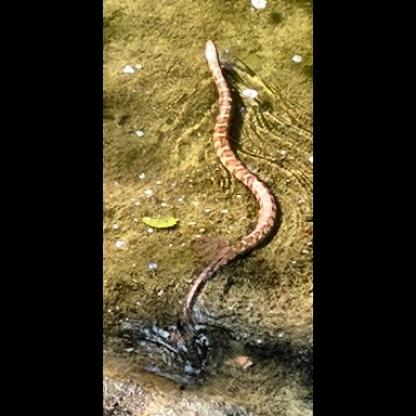Snake: (176, 19, 302, 394)
